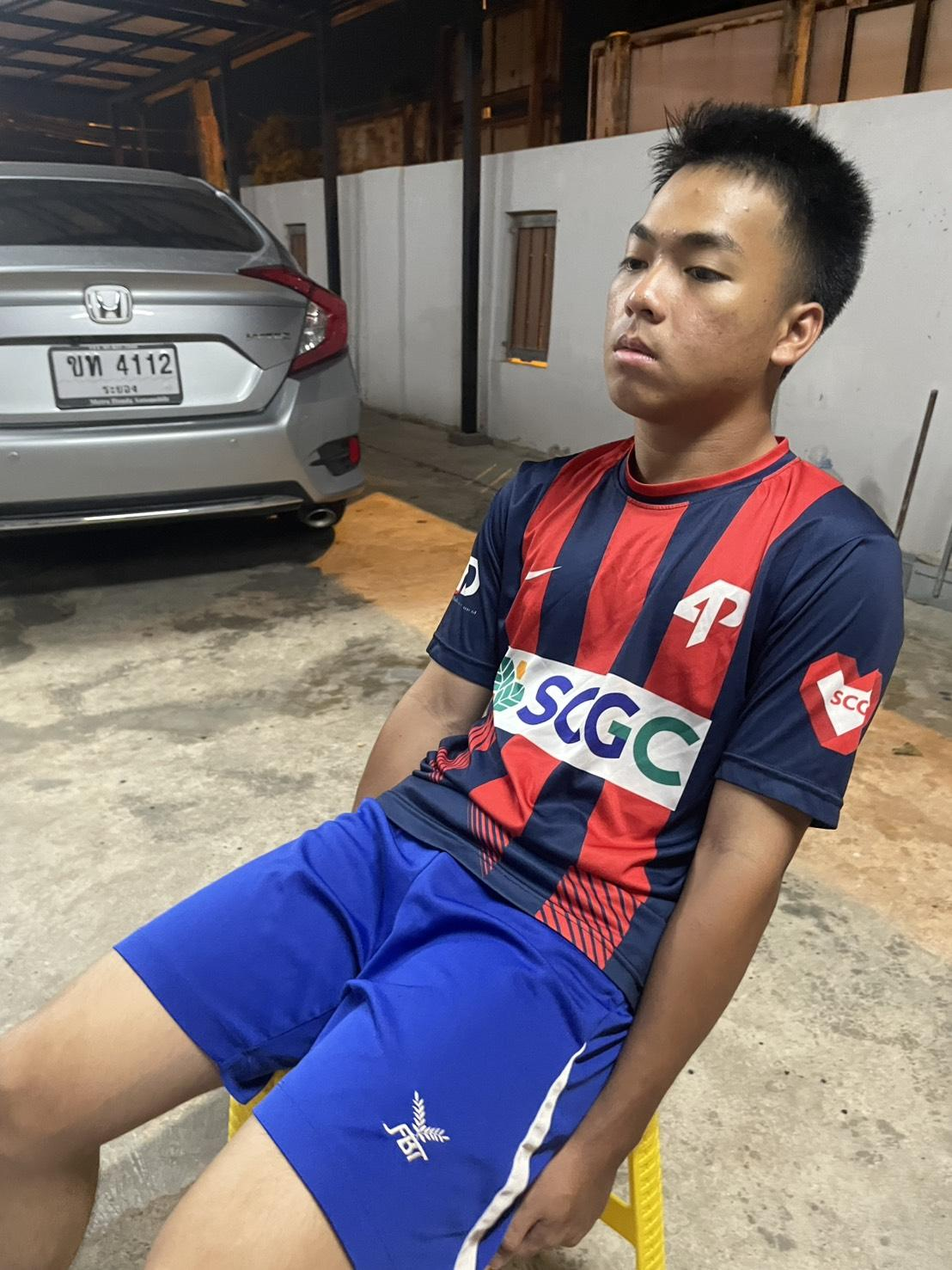BadPosture: (355, 102, 900, 1163)
